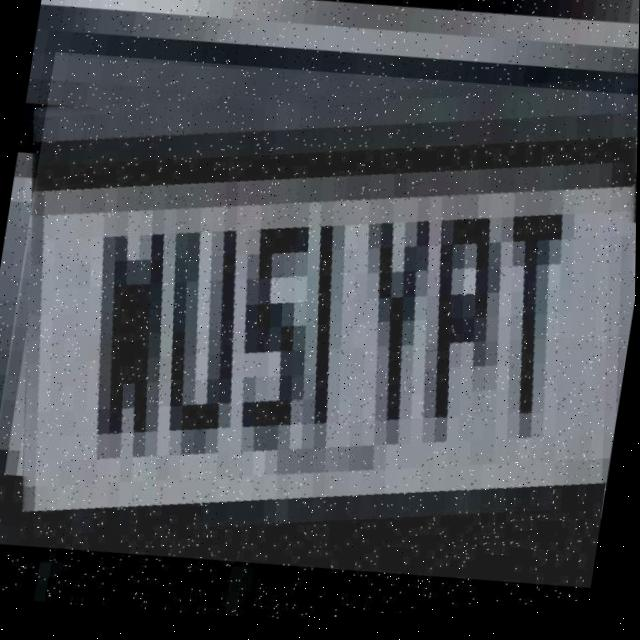LicensePlate: (0, 22, 639, 628)
